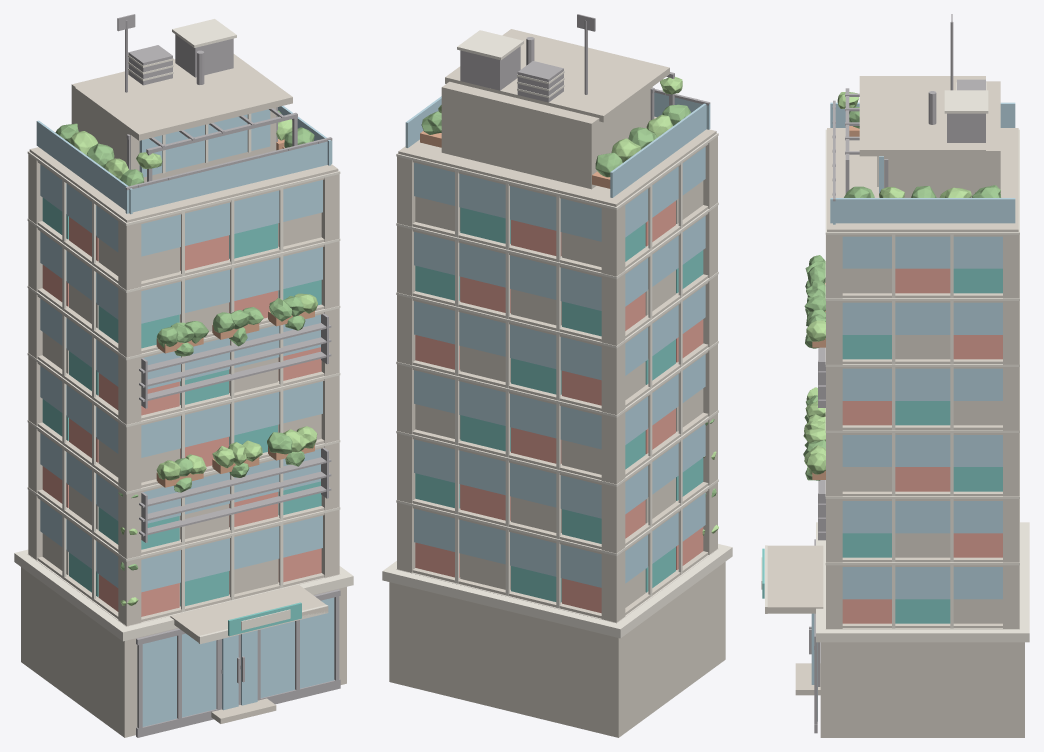
Rendered from Modern_A.fbx.
The picture shows the model from 3 angles, left to right: view 1: azimuth 30°, elevation 25°; view 2: azimuth 150°, elevation 25°; view 3: azimuth 270°, elevation 25°; orthographic projection. The views are drawn at different scales.
Visible parts, largest first — view 1: Modern_A, Modern_A_Veg; view 2: Modern_A, Modern_A_Veg; view 3: Modern_A, Modern_A_Veg.
Part boxes in pixels (x1,y1,x2,y2): Modern_A: [14, 14, 353, 737]; Modern_A_Veg: [55, 110, 317, 605]; Modern_A: [382, 14, 732, 737]; Modern_A_Veg: [421, 77, 718, 535]; Modern_A: [761, 14, 1029, 737]; Modern_A_Veg: [803, 92, 1000, 480].
Bounding box in the file's own units: 5.4 × 14.66 × 5.52.
